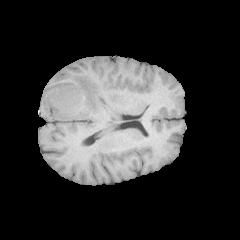glioma: (43, 75, 105, 120)
